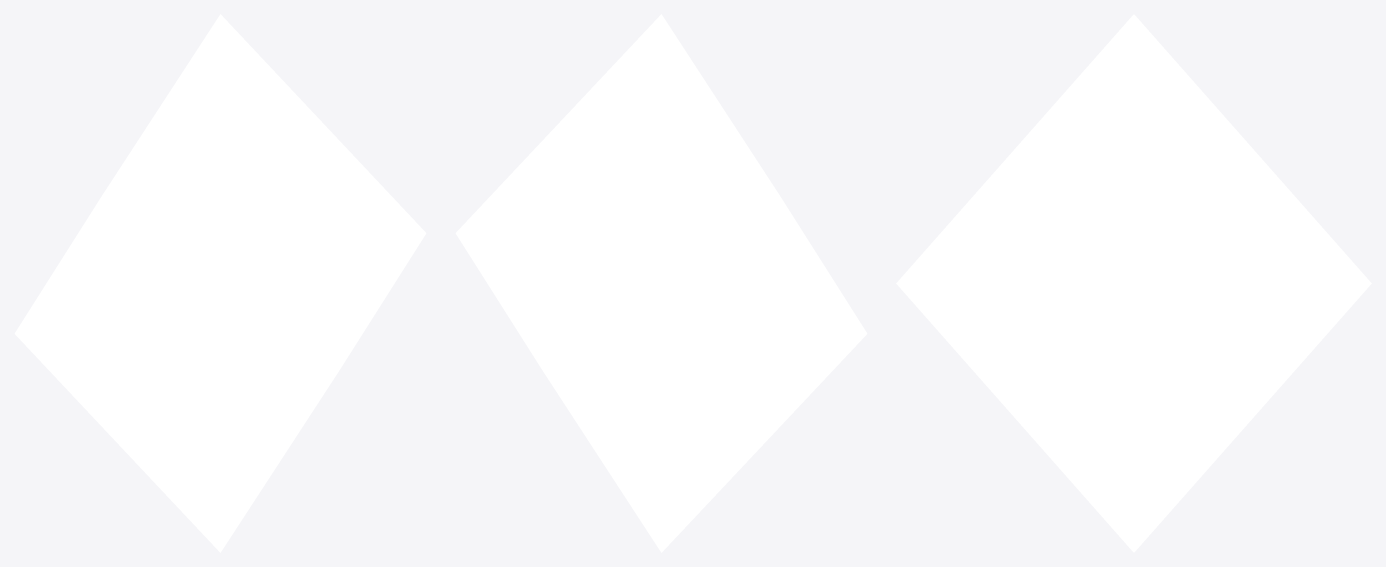
The model's file is SM_cv_gem_violet.glb.
The picture shows the model from 3 angles, left to right: view 1: azimuth 30°, elevation 25°; view 2: azimuth 150°, elevation 25°; view 3: azimuth 270°, elevation 25°; orthographic projection.
Parts seen in each view (by area): view 1: SM_cv_gem_violet; view 2: SM_cv_gem_violet; view 3: SM_cv_gem_violet.
Part boxes in pixels (x1,y1,x2,y2): SM_cv_gem_violet: [14, 14, 426, 552]; SM_cv_gem_violet: [455, 14, 867, 552]; SM_cv_gem_violet: [896, 14, 1371, 552].
Bounding box in the file's own units: 0.64 × 0.8 × 0.64.
